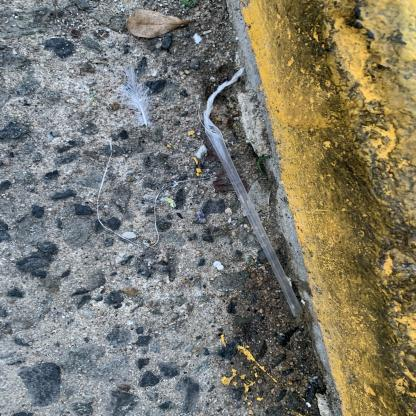trash: (193, 64, 311, 324)
